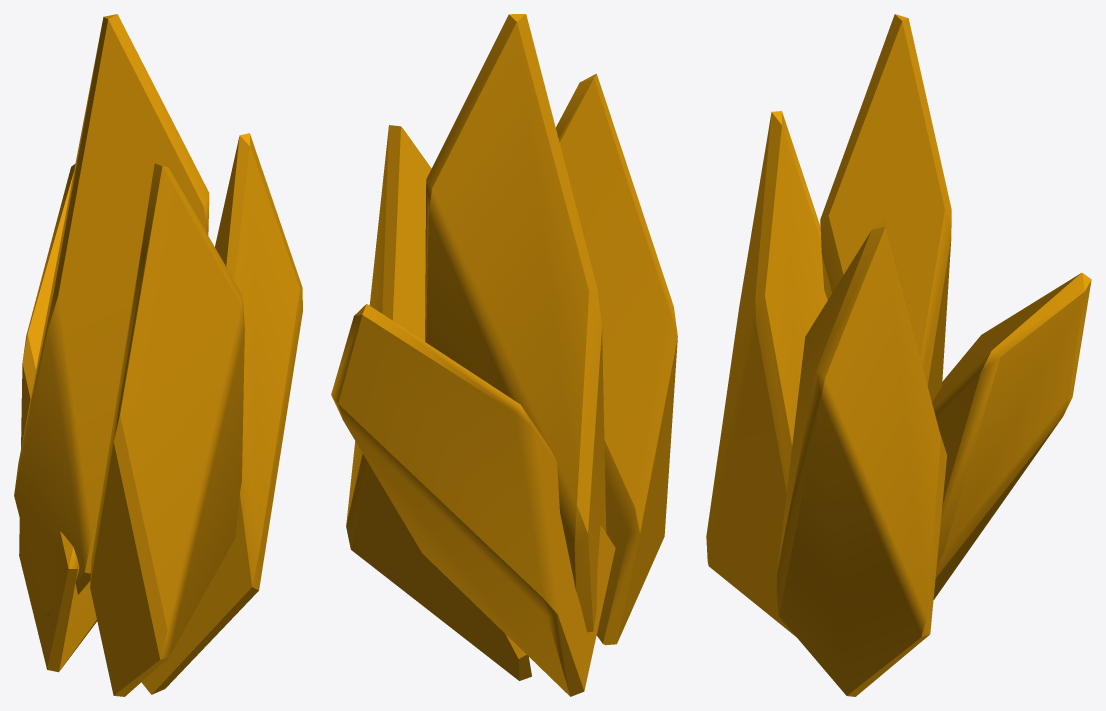
The model's file is torch_fire_v1.fbx.
3 views of the same model, side by side, from view 1: azimuth 30°, elevation 25°; view 2: azimuth 150°, elevation 25°; view 3: azimuth 270°, elevation 25° (orthographic). The views are drawn at different scales.
Visible parts, largest first — view 1: fire_8, fire_10, fire_9, fire_11; view 2: fire_10, fire_11, fire_8, fire_9; view 3: fire_9, fire_8, fire_10, fire_11.
Boxes of the visible parts, x1=… form: fire_8: x1=90, y1=163, x2=244, y2=696; fire_10: x1=14, y1=14, x2=209, y2=616; fire_9: x1=141, y1=133, x2=302, y2=694; fire_11: x1=19, y1=164, x2=97, y2=672; fire_10: x1=425, y1=14, x2=606, y2=632; fire_11: x1=331, y1=304, x2=615, y2=696; fire_8: x1=556, y1=73, x2=677, y2=645; fire_9: x1=346, y1=125, x2=531, y2=680; fire_9: x1=776, y1=220, x2=946, y2=696; fire_8: x1=706, y1=111, x2=827, y2=637; fire_10: x1=820, y1=14, x2=951, y2=401; fire_11: x1=932, y1=272, x2=1091, y2=599.
Size of the model in its own units: 0.2028 by 0.5438 by 0.2833.
